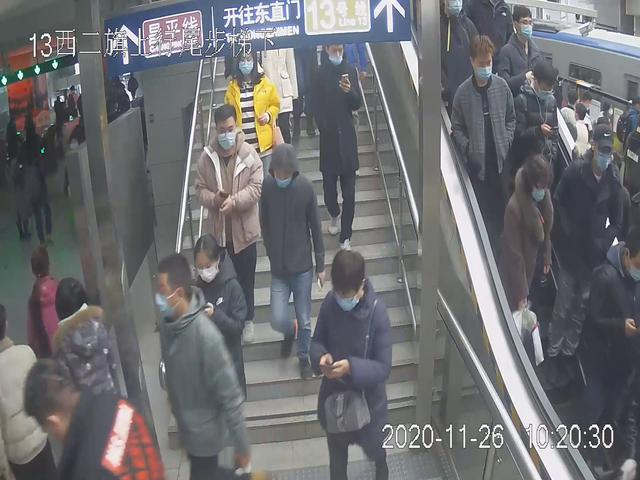person: (154, 253, 254, 480), (307, 249, 391, 480), (555, 116, 627, 363), (192, 99, 263, 332), (258, 141, 327, 379), (448, 33, 522, 230), (308, 34, 369, 254), (494, 150, 561, 349)
